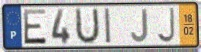4: (50, 7, 72, 46)
E: (22, 8, 48, 46)
I: (103, 7, 113, 46)
J: (155, 6, 176, 44), (130, 7, 150, 43)
U: (74, 6, 101, 46)
